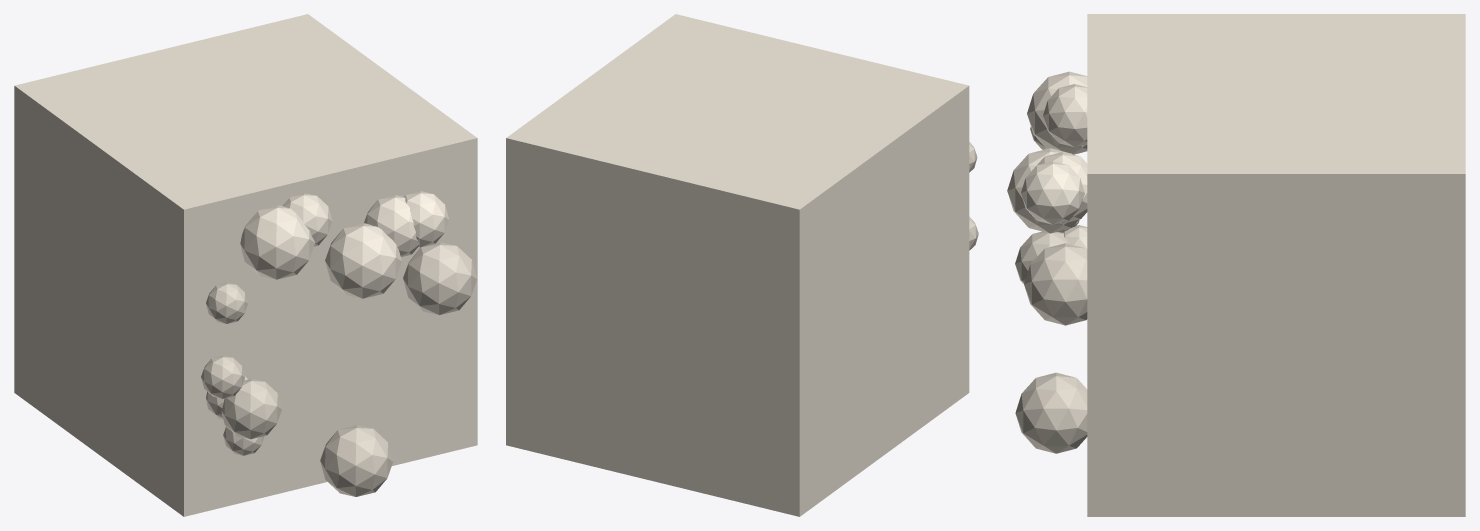
The model's file is 52_reefstone.glb.
3 renders of one model, left to right at view 1: azimuth 30°, elevation 25°; view 2: azimuth 150°, elevation 25°; view 3: azimuth 270°, elevation 25°, orthographic. The views are drawn at different scales.
Visible parts, largest first — view 1: Core, Pebble_9, Pebble_1, Pebble_0, Pebble_5, Pebble_4, Pebble_3, Pebble_2, Pebble_6, Pebble_10, Pebble_11, Pebble_8; view 2: Core; view 3: Core, Pebble_5, Pebble_0, Pebble_2, Pebble_10, Pebble_1, Pebble_9, Pebble_4, Pebble_3.
Boxes of the visible parts, x1=… form: Core: x1=14, y1=14, x2=477, y2=516; Pebble_9: x1=325, y1=223, x2=401, y2=298; Pebble_1: x1=240, y1=205, x2=315, y2=279; Pebble_0: x1=403, y1=242, x2=476, y2=314; Pebble_5: x1=320, y1=425, x2=393, y2=496; Pebble_4: x1=221, y1=378, x2=281, y2=439; Pebble_3: x1=364, y1=195, x2=419, y2=256; Pebble_2: x1=404, y1=191, x2=449, y2=247; Pebble_6: x1=201, y1=355, x2=244, y2=398; Pebble_10: x1=282, y1=193, x2=332, y2=246; Pebble_11: x1=206, y1=282, x2=247, y2=323; Pebble_8: x1=223, y1=426, x2=264, y2=455; Core: x1=506, y1=14, x2=969, y2=516; Core: x1=1087, y1=14, x2=1465, y2=516; Pebble_5: x1=1015, y1=372, x2=1087, y2=453; Pebble_0: x1=1024, y1=243, x2=1087, y2=325; Pebble_2: x1=1021, y1=161, x2=1084, y2=224; Pebble_10: x1=1043, y1=84, x2=1087, y2=147; Pebble_1: x1=1027, y1=71, x2=1087, y2=154; Pebble_9: x1=1007, y1=148, x2=1078, y2=233; Pebble_4: x1=1015, y1=231, x2=1069, y2=283; Pebble_3: x1=1032, y1=152, x2=1087, y2=223.
Bounding box in the file's own units: 1 × 1.02 × 1.21.
